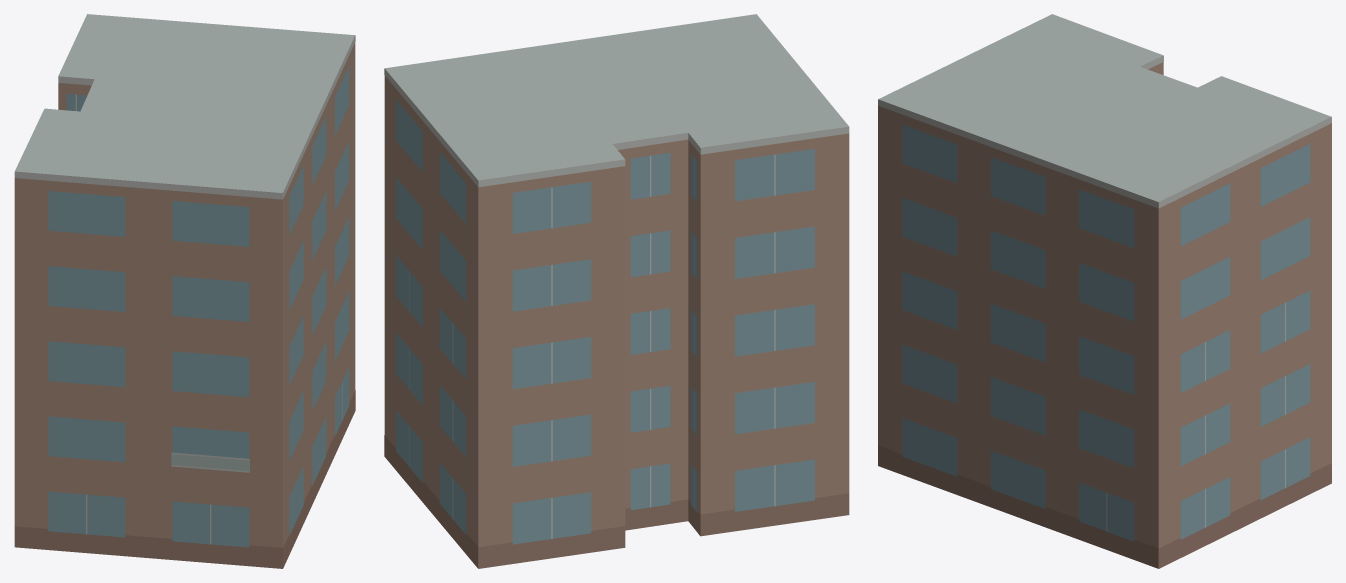
The model's file is survey-upis-32916699.glb.
3 views of the same model, side by side, from view 1: azimuth 30°, elevation 25°; view 2: azimuth 150°, elevation 25°; view 3: azimuth 270°, elevation 25° (orthographic). The views are drawn at different scales.
Visible parts, largest first — view 1: survey-upis-32916699.tmp; view 2: survey-upis-32916699.tmp; view 3: survey-upis-32916699.tmp.
Boxes of the visible parts, box(x1,y1,x2,y2) form: survey-upis-32916699.tmp: box(14, 14, 355, 568); survey-upis-32916699.tmp: box(384, 14, 849, 568); survey-upis-32916699.tmp: box(878, 14, 1331, 568).
Size of the model in its own units: 15.53 by 14.1 by 15.82.
